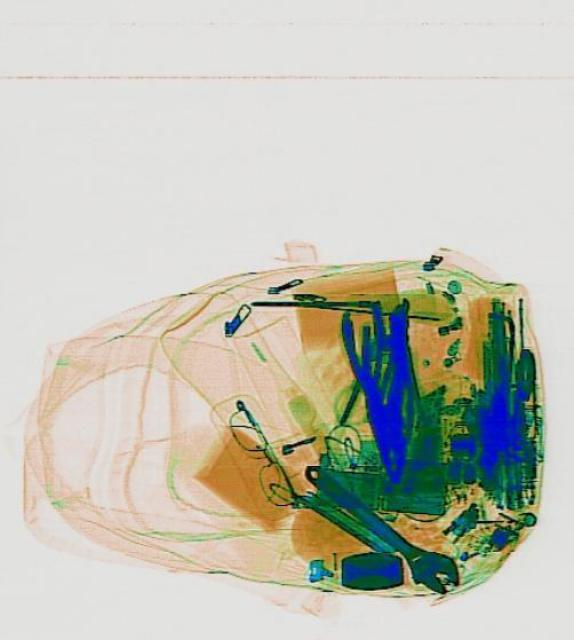Pliers: (334, 294, 433, 488)
Wrench: (290, 448, 465, 604)
